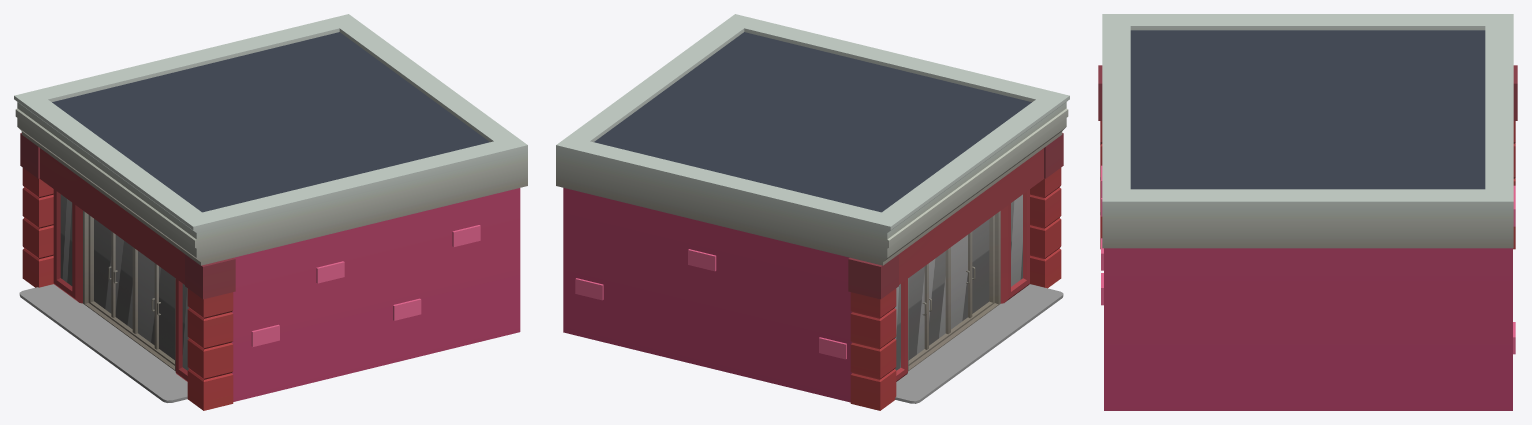
The model's file is Building_21_5_C.fbx.
The picture shows the model from 3 angles, left to right: view 1: azimuth 30°, elevation 25°; view 2: azimuth 150°, elevation 25°; view 3: azimuth 270°, elevation 25°; orthographic projection. The views are drawn at different scales.
Visible parts, largest first — view 1: Building_21_5_C; view 2: Building_21_5_C; view 3: Building_21_5_C.
Boxes of the visible parts, x1,y1,x2,y2 form: Building_21_5_C: (14,14,527,410); Building_21_5_C: (556,14,1069,410); Building_21_5_C: (1098,14,1517,410).
Size of the model in its own units: 779 by 400 by 713.
